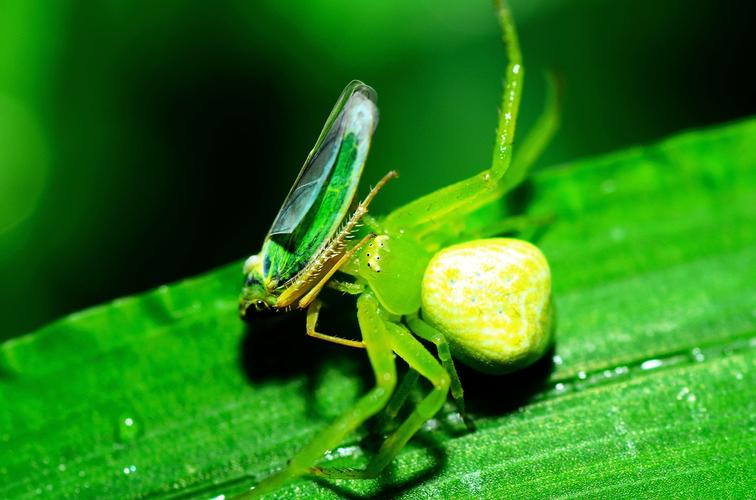Cicadellidae: (239, 80, 395, 320)
